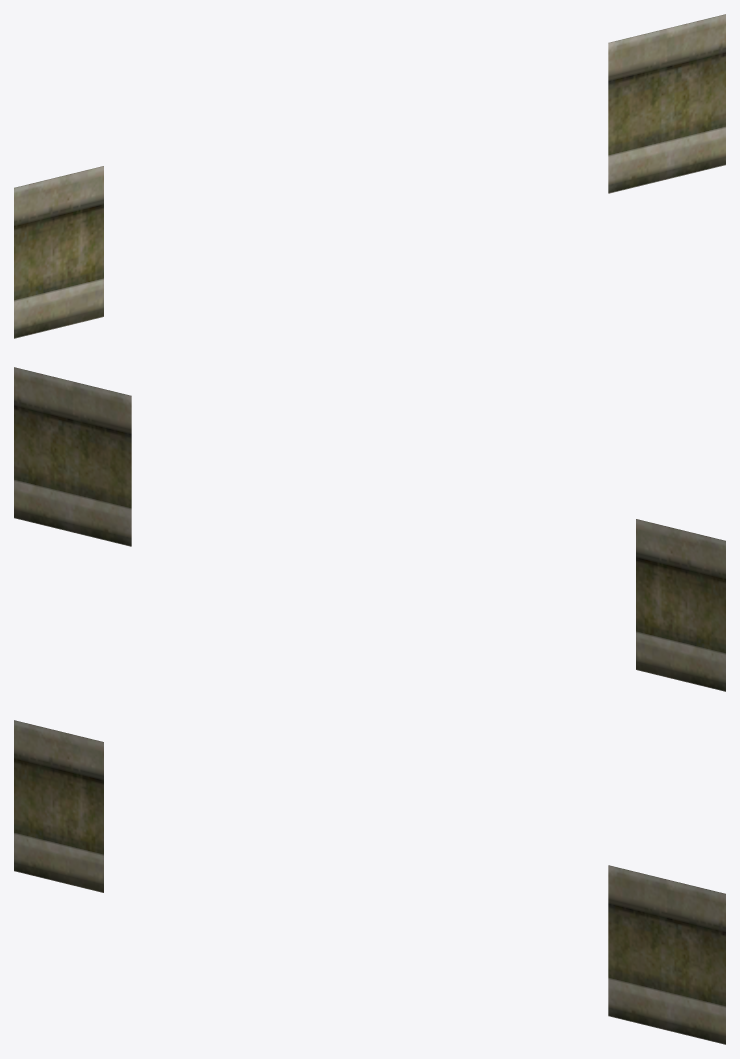
File: CH09_SMAUG_PLAYSURFACE_LAIR113.fbx
3 renders of one model, top to bottom at view 1: azimuth 30°, elevation 25°; view 2: azimuth 150°, elevation 25°; view 3: azimuth 330°, elevation 25°, orthographic.
Visible parts, largest first — view 1: CH09_SMAUG_PLAYSURFACE_LAIR113; view 2: CH09_SMAUG_PLAYSURFACE_LAIR113; view 3: CH09_SMAUG_PLAYSURFACE_LAIR113.
Part boxes in pixels (x1,y1,x2,y2): CH09_SMAUG_PLAYSURFACE_LAIR113: [14, 14, 725, 338]; CH09_SMAUG_PLAYSURFACE_LAIR113: [14, 367, 725, 691]; CH09_SMAUG_PLAYSURFACE_LAIR113: [14, 720, 725, 1044].
Size of the model in its own units: 160440 by 32523 by 0.0297.
1 material, 1 textured.
